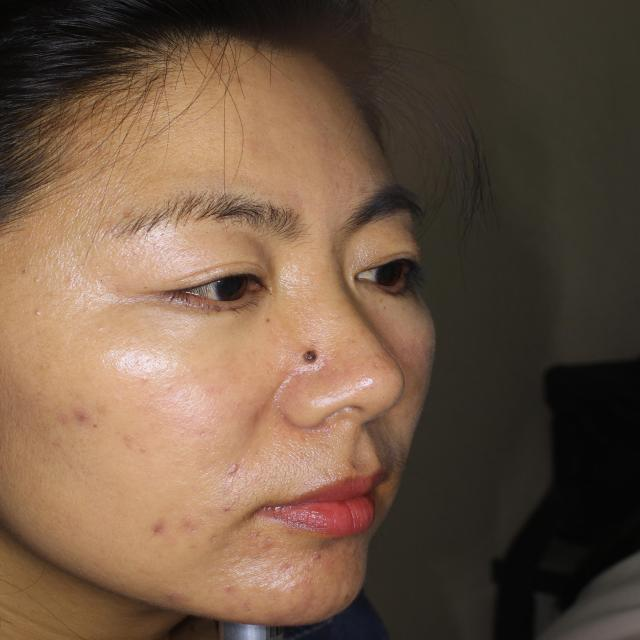pustule: (147, 513, 174, 549), (251, 530, 278, 560), (67, 403, 101, 425), (183, 512, 205, 542), (163, 584, 189, 608), (306, 546, 331, 566), (224, 573, 243, 594)
